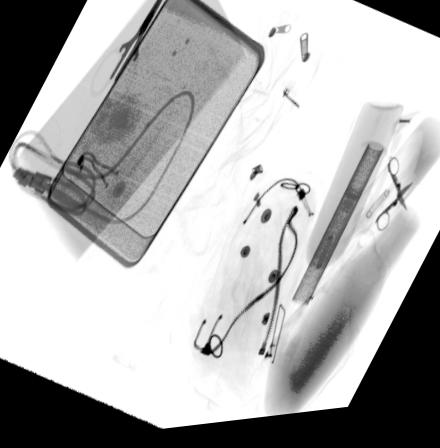Scissors: (86, 0, 164, 112), (374, 166, 414, 244)
